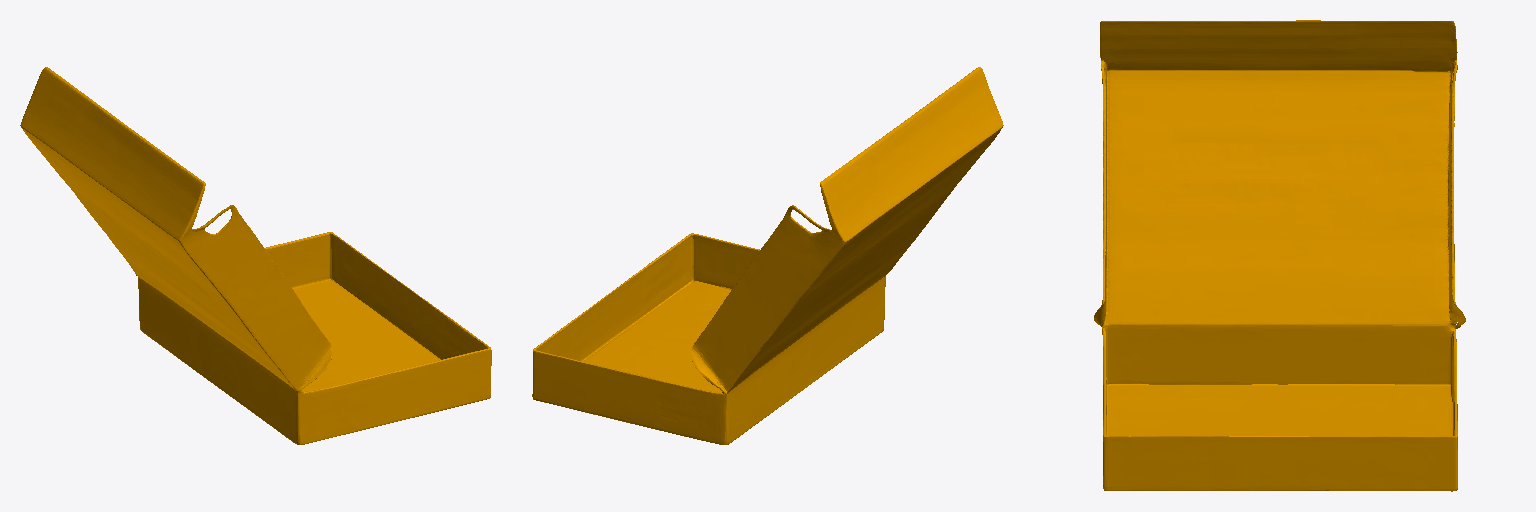
The robot description file, URDF, robot "sample":
<?xml version="1.0" ?>
<robot name="sample">
   <link name="sample">
      <visual>
         <origin xyz="0 0 0" rpy="1.5708 0.0 0.0"/>
         <geometry>
            <mesh filename="mesh/sample.obj" scale="1.0 1.0 1.0"/>
         </geometry>
      </visual>
      <collision>
         <origin xyz="0 0 0" rpy="1.5708 0.0 0.0"/>
         <geometry>
            <mesh filename="mesh/sample_collision.obj" scale="1.0 1.0 1.0"/>
         </geometry>
         <gazebo>
            <mu1>0.40</mu1>
            <mu2>0.30</mu2>
         </gazebo>
      </collision>
      <inertial>
         <mass value="0.7500"/>
         <origin xyz="0 0 0"/>
         <inertia ixx="1.0" ixy="0.0" ixz="0.0" iyy="1.0" iyz="0.0" izz="1.0"/>
      </inertial>
      <extra_info>
         <scale>0.200231</scale>
         <version>v0.1.7</version>
         <category>box</category>
         <description>open cardboard box with printed text inside</description>
         <min_height>0.15</min_height>
         <max_height>0.2</max_height>
         <real_height>0.175</real_height>
         <min_mass>0.5</min_mass>
         <max_mass>1.0</max_mass>
         <generate_time>20260402173731</generate_time>
         <gs_model>mesh/sample_gs.ply</gs_model>
      </extra_info>
   </link>
   <custom_data>
      <quality>
         <MeshGeoChecker>YES</MeshGeoChecker>
         <ImageSegChecker>NO, segmentation has artifacts and incomplete edges, especially on the right side.</ImageSegChecker>
         <ImageAestheticChecker>3.9506638050079346</ImageAestheticChecker>
         <overall>NO</overall>
      </quality>
   </custom_data>
</robot>

--- Facts derived from the render (not from the file) ---
The picture shows the robot from 3 angles, left to right: view 1: azimuth 30°, elevation 25°; view 2: azimuth 150°, elevation 25°; view 3: azimuth 270°, elevation 25°; orthographic projection.
Robot: sample — 1 links, 0 joints (none); root link sample; default pose: all joints at 0.
Visible links, largest first — view 1: sample; view 2: sample; view 3: sample.
Boxes of the visible links, x1=… form: sample: x1=20, y1=67, x2=491, y2=444; sample: x1=532, y1=67, x2=1003, y2=444; sample: x1=1094, y1=20, x2=1465, y2=491.
Bounding box of the posed robot: 0.2002 × 0.1864 × 0.175 m (x, y, z).
1 mesh visuals loaded from 1 distinct referenced files (1 OBJ).
